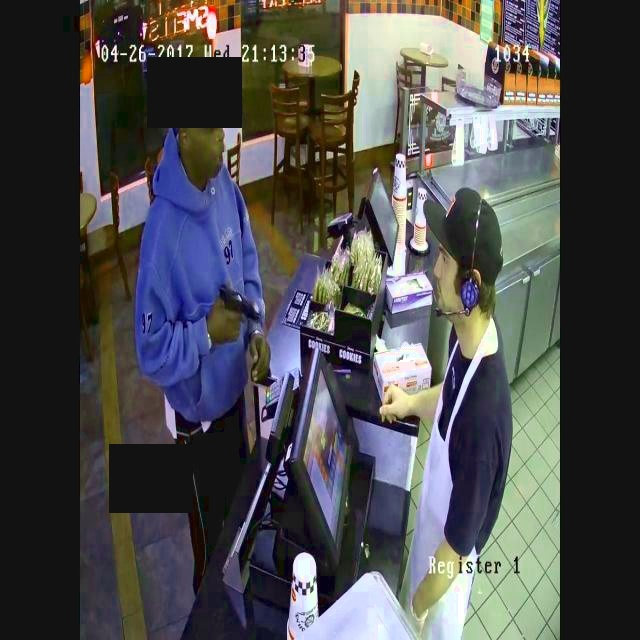gun: (207, 266, 265, 342)
